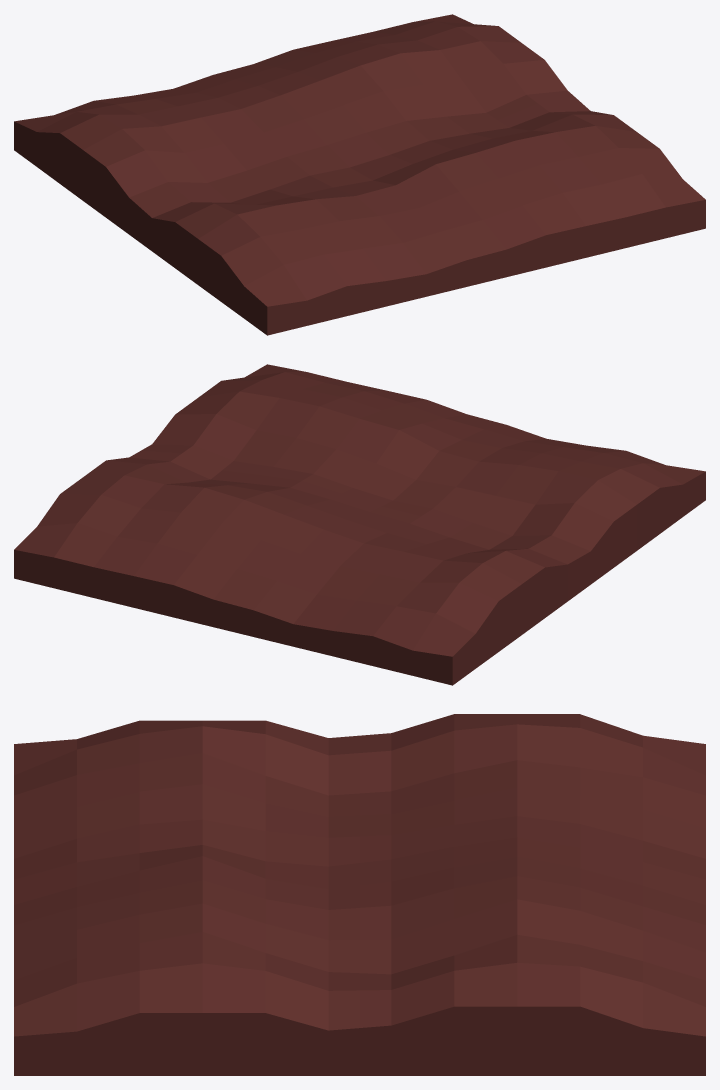
The model's file is grote plantjes gewaterd.fbx.
3 renders of one model, top to bottom at view 1: azimuth 30°, elevation 25°; view 2: azimuth 150°, elevation 25°; view 3: azimuth 270°, elevation 25°, orthographic. The views are drawn at different scales.
Parts seen in each view (by area): view 1: untilted ground; view 2: untilted ground; view 3: untilted ground.
Boxes of the visible parts, x1,y1,x2,y2 form: untilted ground: [14, 14, 705, 335]; untilted ground: [14, 364, 705, 685]; untilted ground: [14, 714, 705, 1075].
Size of the model in its own units: 2 by 0.305 by 2.
